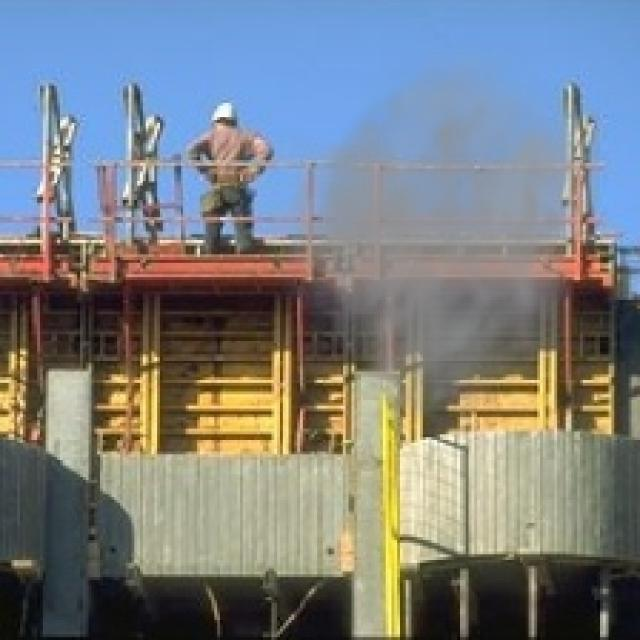Smoke: (245, 34, 600, 437)
